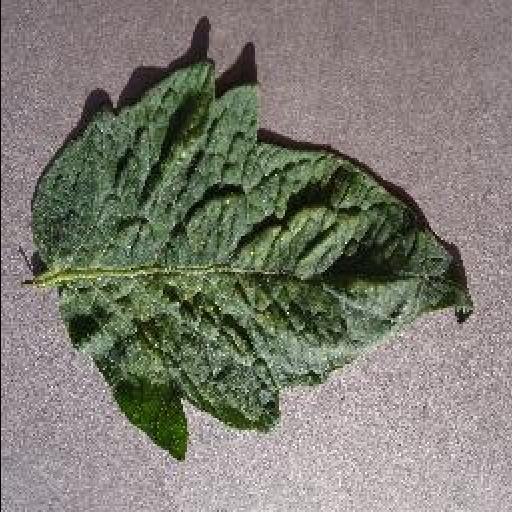disease_tomato: (27, 52, 469, 462)
